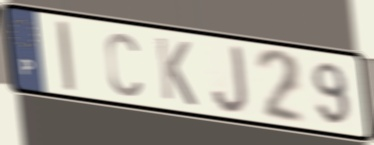2: (253, 47, 310, 127)
9: (309, 60, 353, 127)
C: (103, 29, 144, 99)
I: (54, 18, 78, 94)
J: (209, 42, 251, 116)
K: (153, 34, 200, 109)
